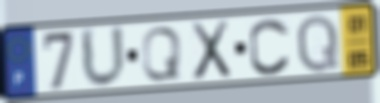7: (40, 31, 78, 92)
C: (247, 16, 293, 77)
Q: (295, 12, 341, 75), (140, 25, 183, 83)
U: (78, 23, 129, 91)
X: (188, 18, 233, 84)
